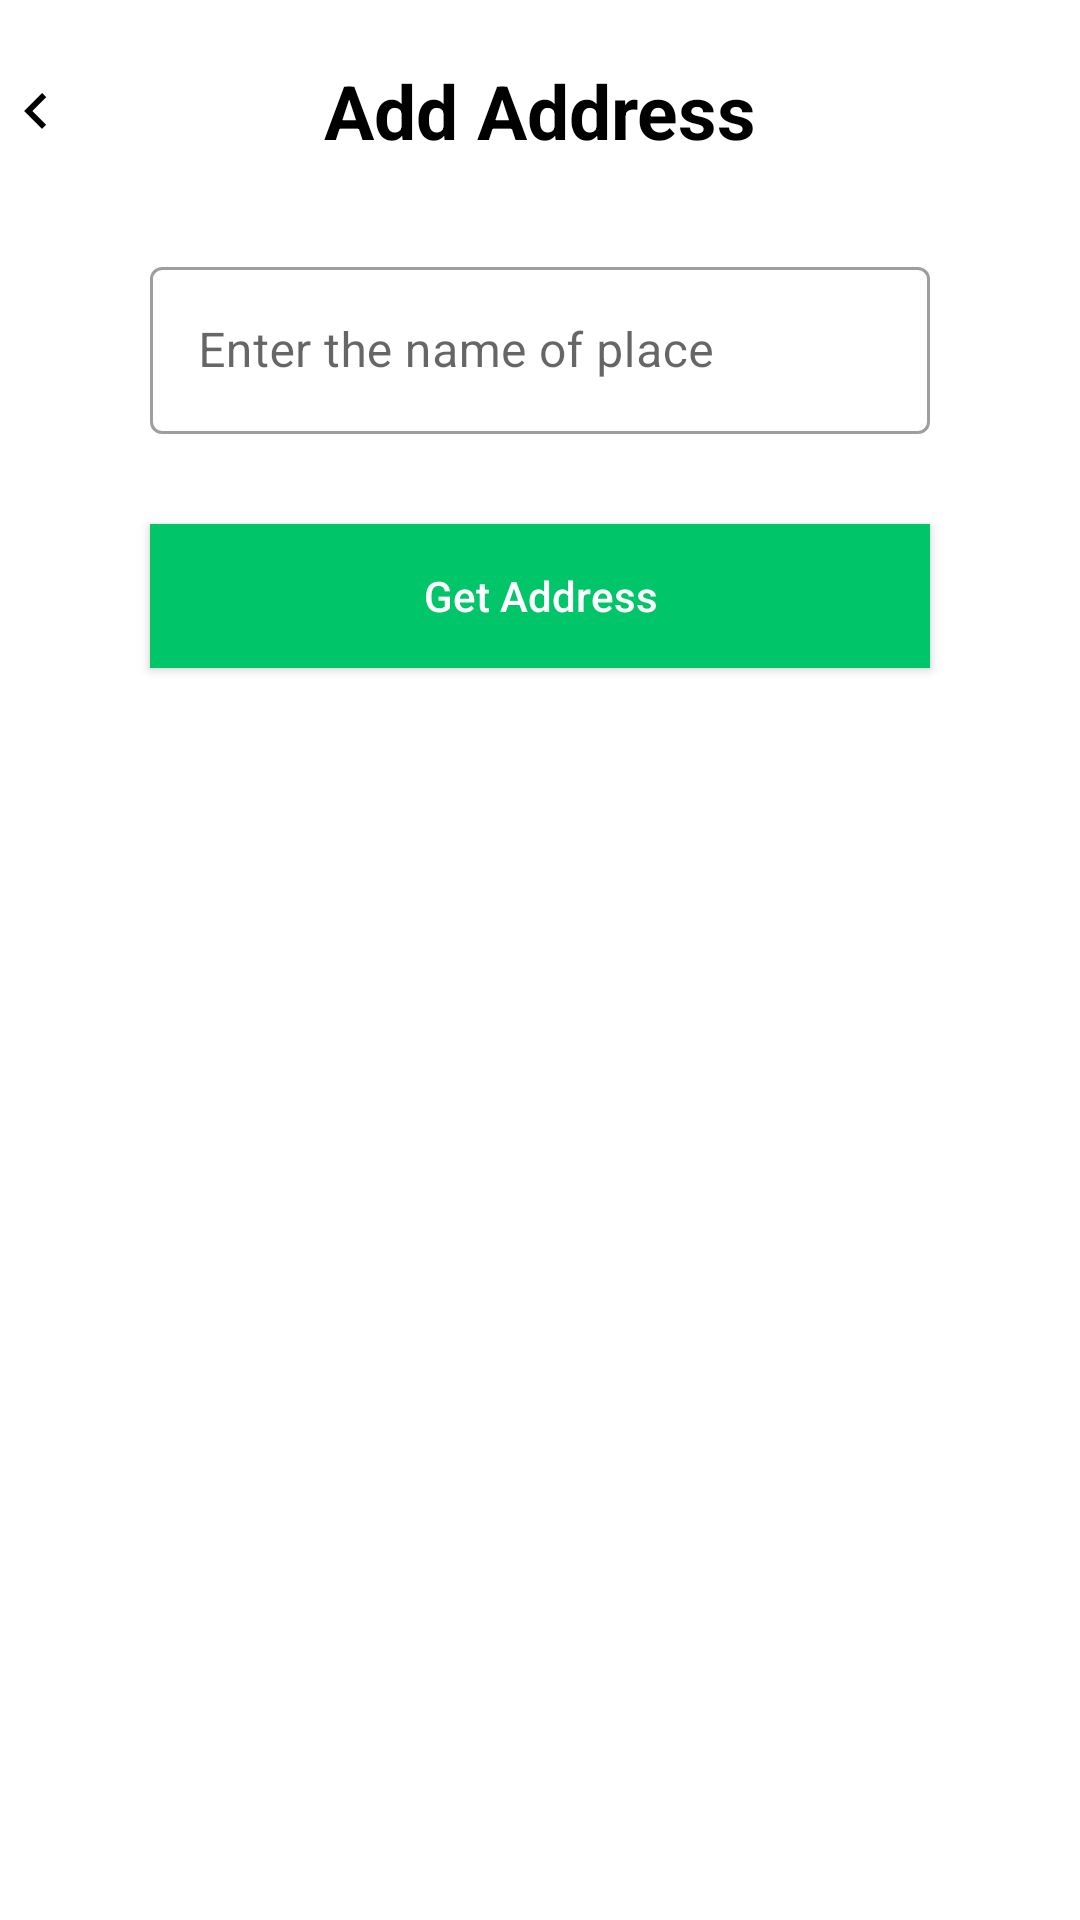

Icons on this 1080 × 1920 Android screen, each with the point to tap as (x,y):
Go back: (35,111)
